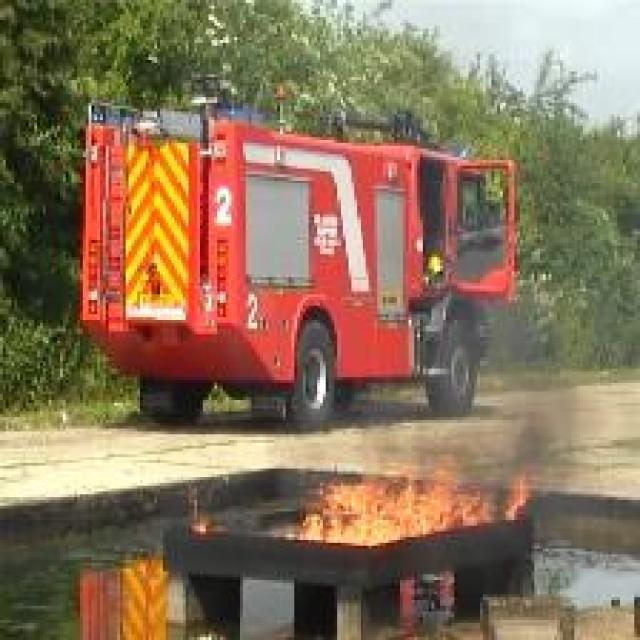Fire: (293, 460, 496, 546), (502, 467, 536, 524)
